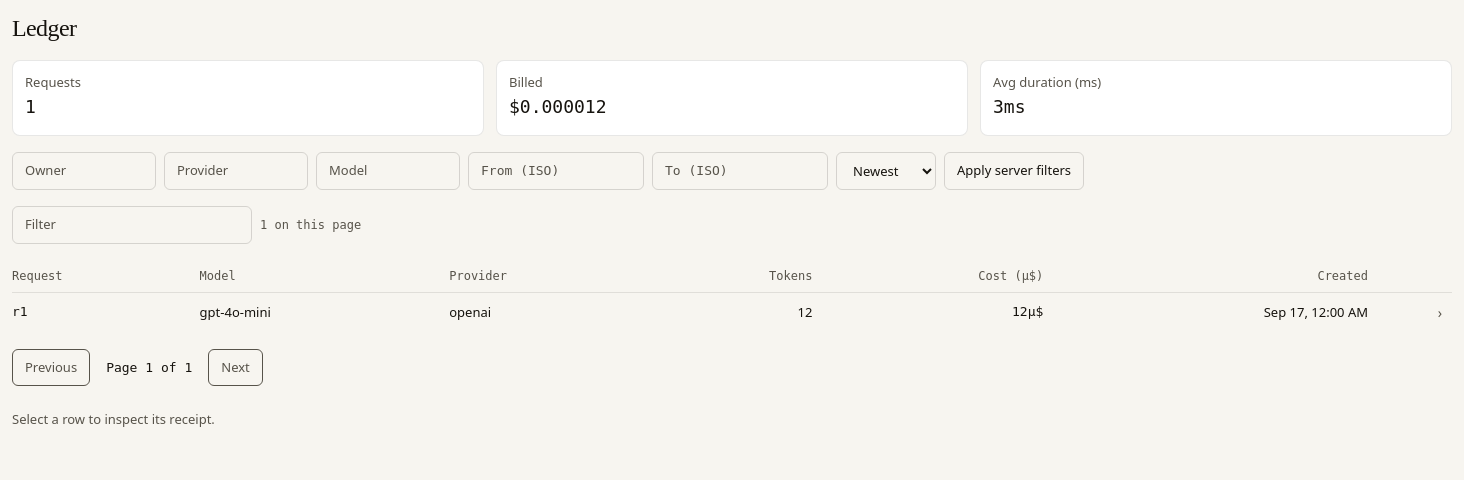
Test: LedgerPage › rejects reversed windows before fetching
expect the table is shown: met, box [12, 260, 1452, 332]
Type "2026-09-26" into the field named "server filter window start". click: (556, 171)
box: [468, 152, 644, 190]
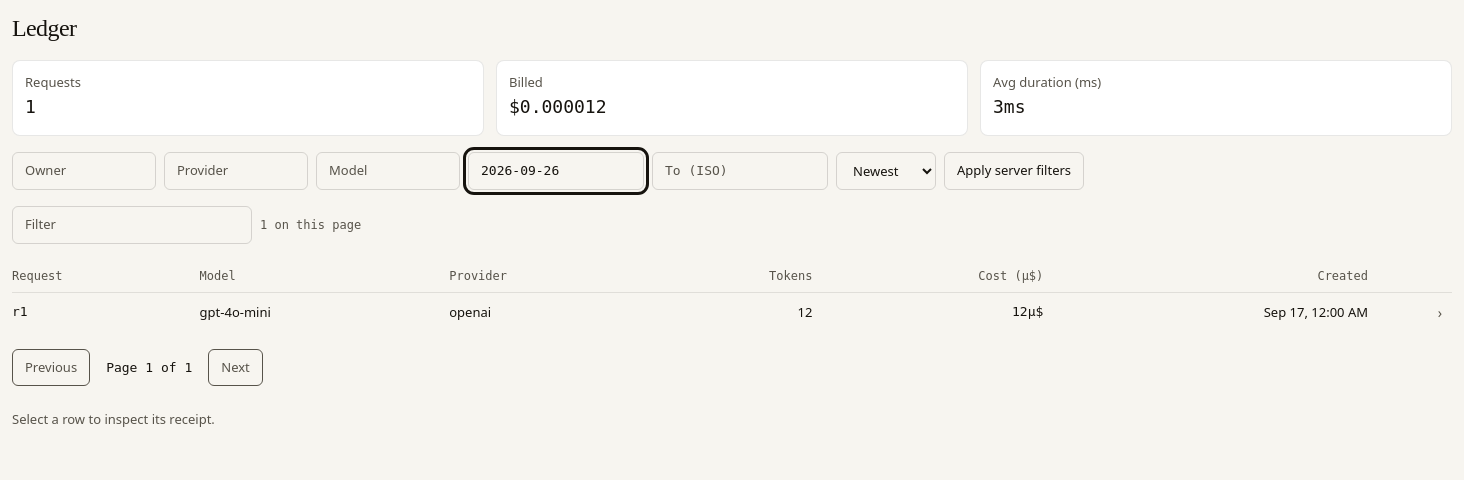
Type "2026-09-01" into the field named "server filter window end". click: (740, 171)
box: [652, 152, 828, 190]
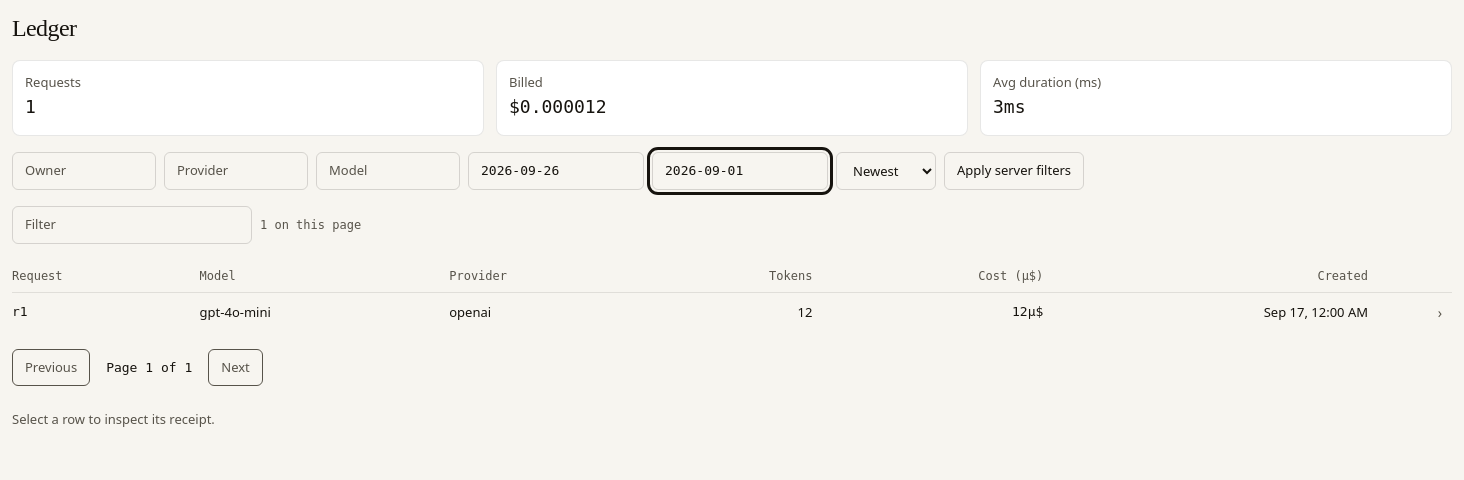
Click the button "Apply server filters". click: (1014, 171)
box: [944, 152, 1084, 190]
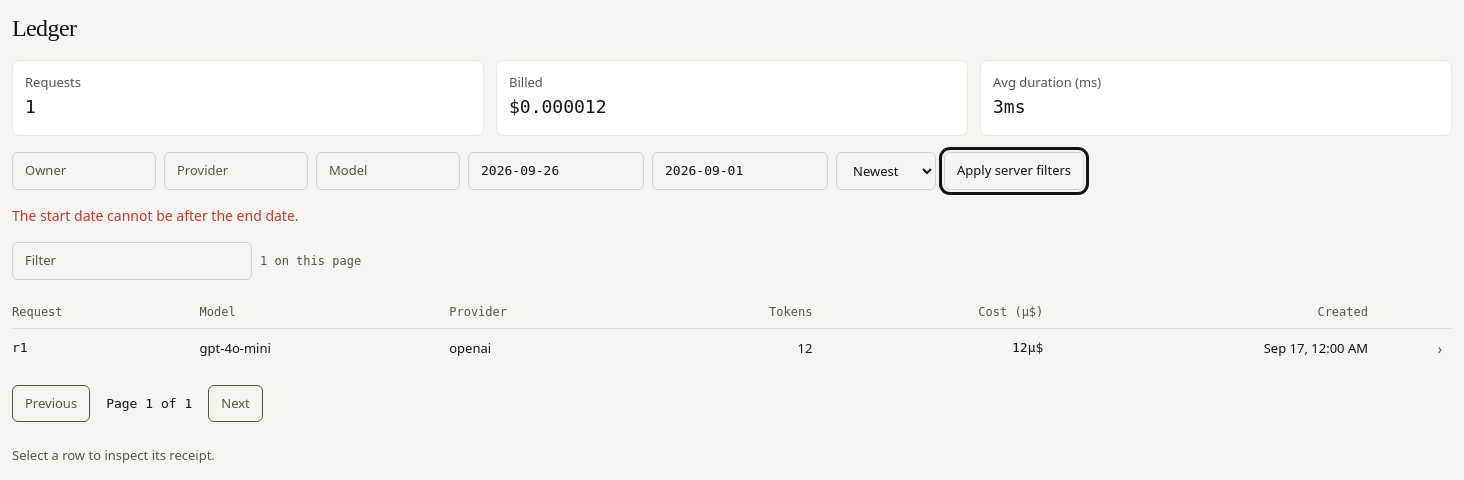
expect the text "The start date cannot be after the end date." is shown: met, box [12, 206, 299, 225]
